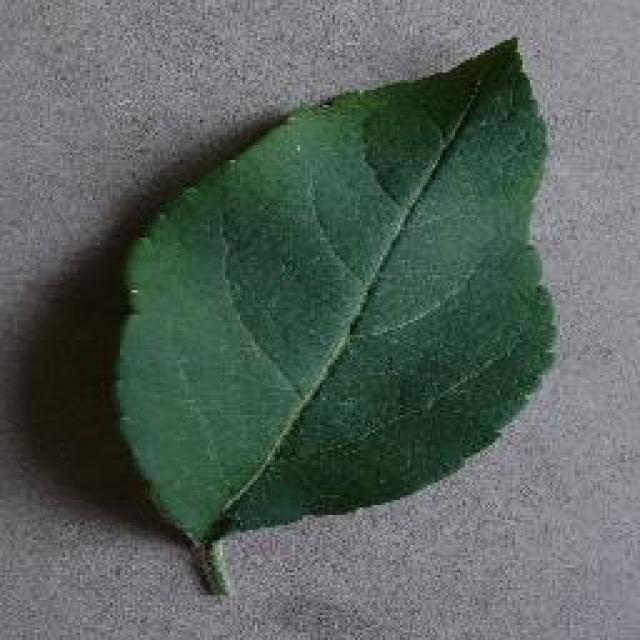apple scab disease: (108, 33, 562, 595)
